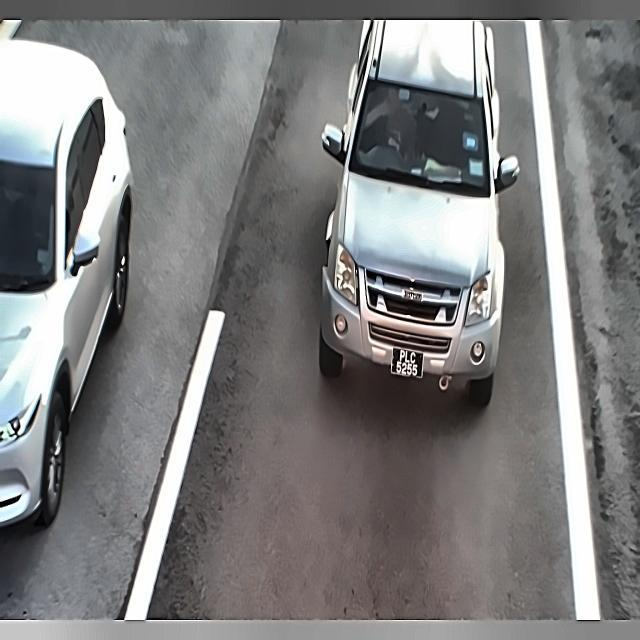car: (388, 342, 428, 384)
